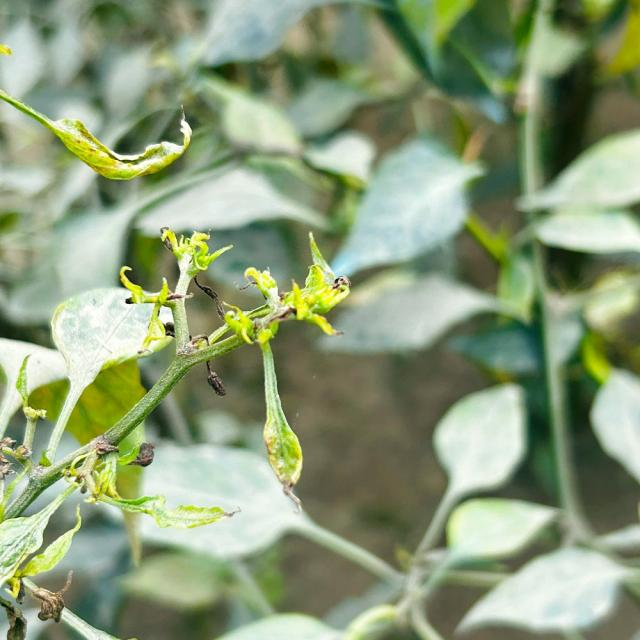Chilli_Leaf_Curl: (1, 1, 638, 638), (1, 224, 351, 602), (115, 225, 352, 496), (42, 285, 174, 465), (329, 136, 485, 278), (1, 88, 192, 181), (257, 338, 303, 491)
